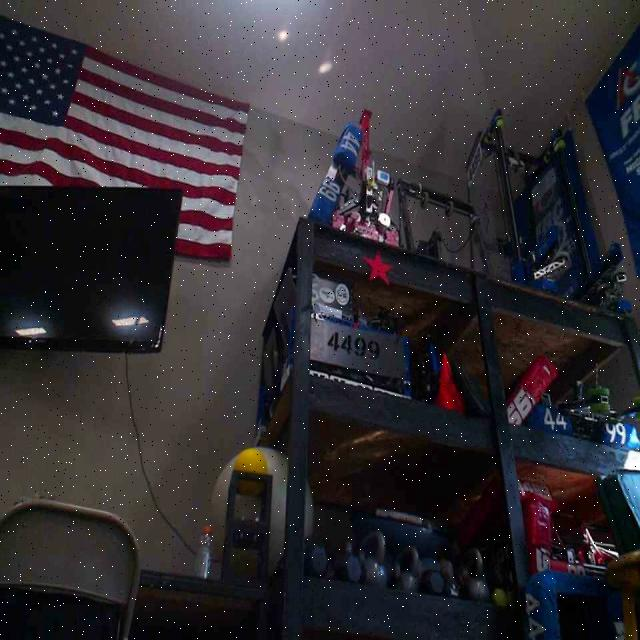star_red: (363, 252, 391, 282)
